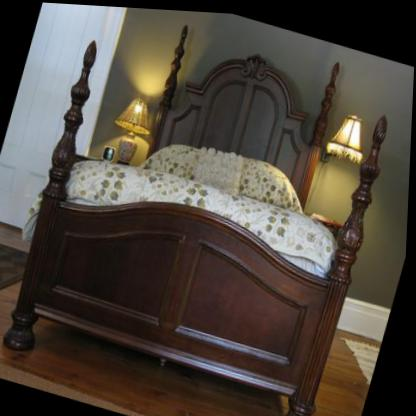Bed: (0, 1, 410, 416)
